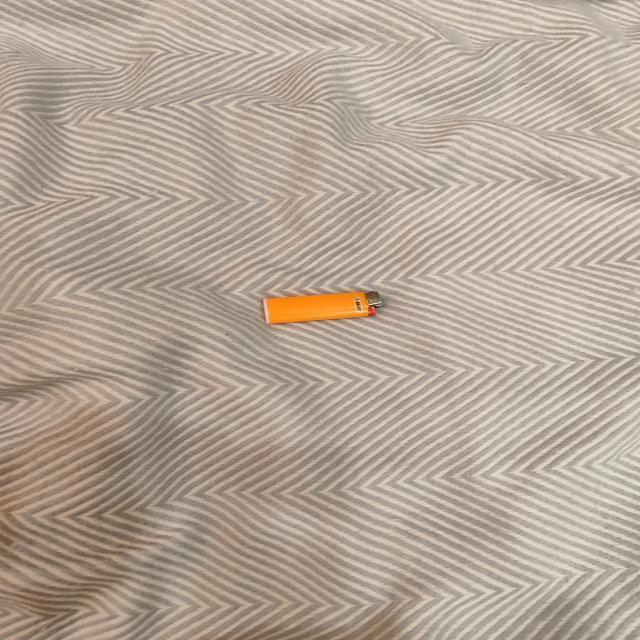lighter: (264, 291, 382, 324)
